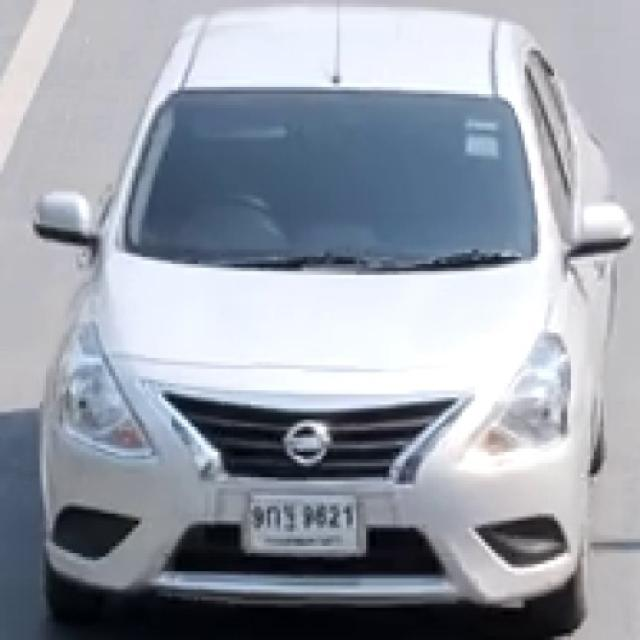plate: (245, 488, 363, 555)
